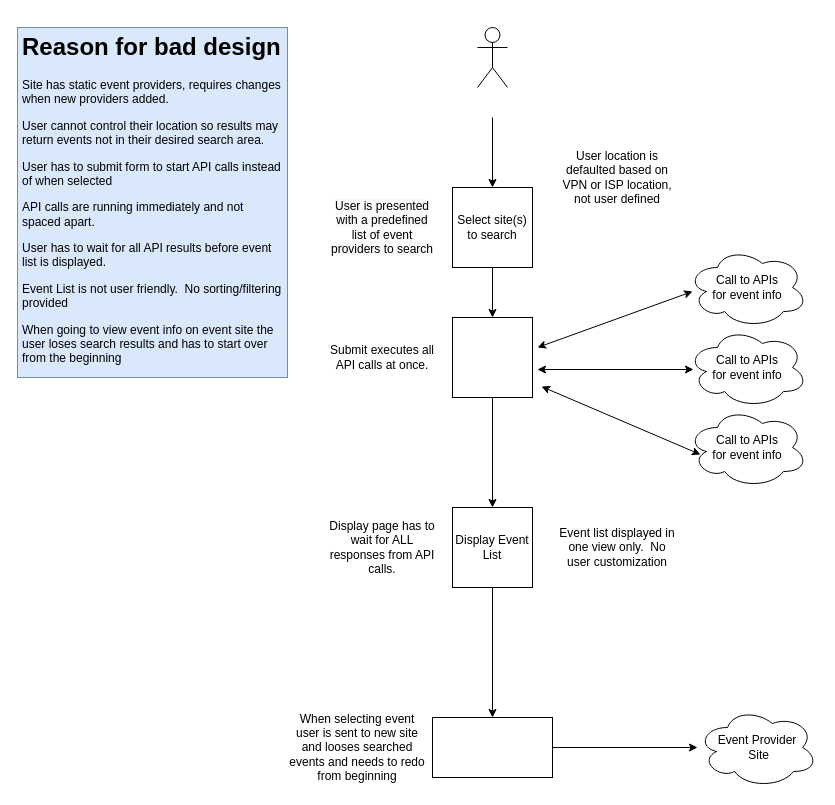
This 835x805 diagram has some shape labels left out. Each missing label, with the box of its shape:
Actor: (476, 26, 508, 88)
User submits page after selection: (452, 316, 532, 398)
View selected event: (432, 716, 552, 778)
